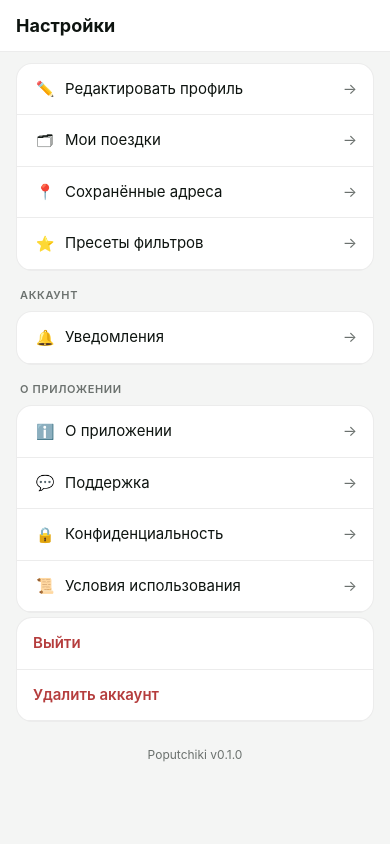
Test case: SettingsScreen › кнопка delete открывает модалку подтверждения
The width and height of the screenshot is (390, 844).
(page scrolled)
Click the button with test id "delete-account-btn" at [96, 694], box 17,670 -> 373,721
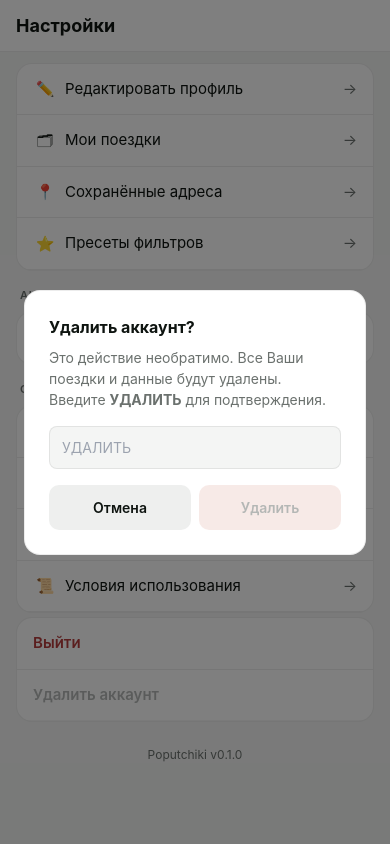
expect the element with test id "delete-confirm-modal" is shown: met
